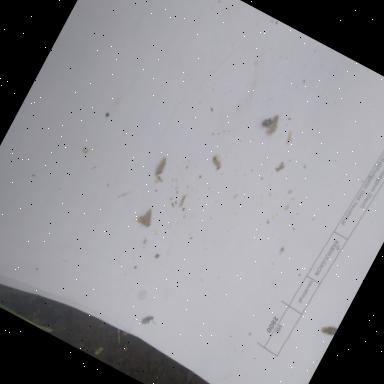abw: (132, 203, 158, 230)
pbw: (154, 156, 170, 178), (266, 113, 282, 134), (320, 324, 336, 340), (283, 130, 296, 146), (210, 156, 224, 168)
